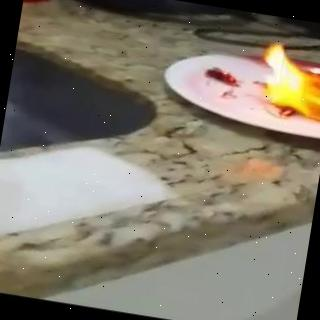fire: (248, 39, 320, 130)
